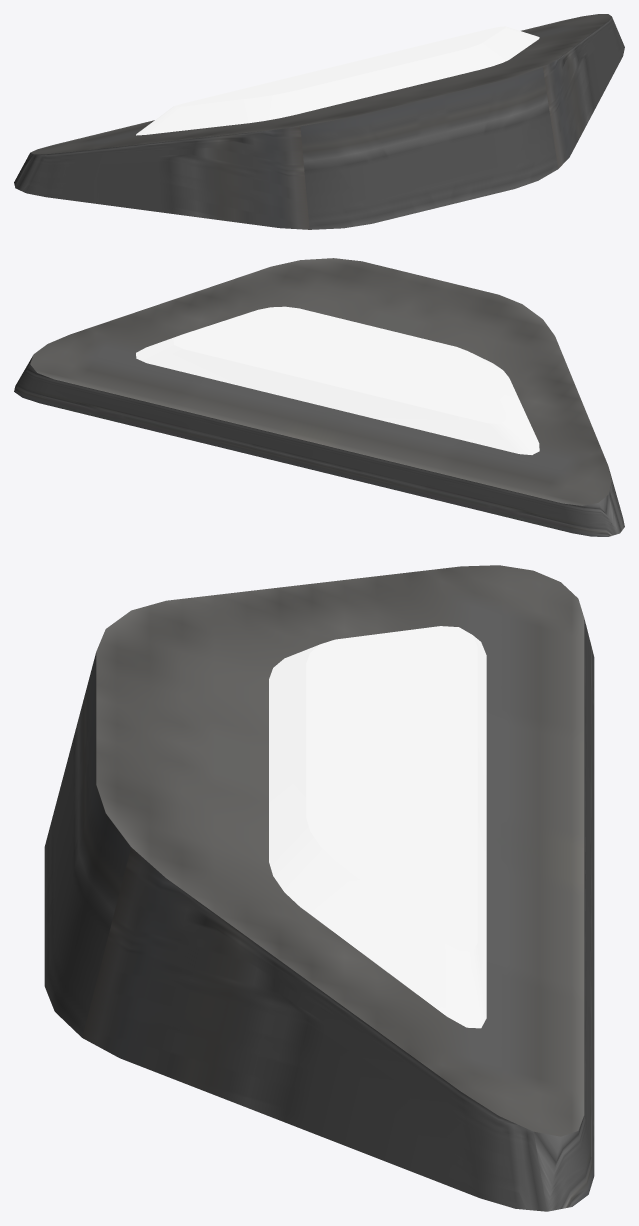
File: sf_floor_light.glb
3 renders of one model, top to bottom at view 1: azimuth 30°, elevation 25°; view 2: azimuth 150°, elevation 25°; view 3: azimuth 270°, elevation 25°, orthographic. The views are drawn at different scales.
Visible parts, largest first — view 1: Prop_Light_Floor; view 2: Prop_Light_Floor; view 3: Prop_Light_Floor.
Part boxes in pixels (left/top/right/bottom): Prop_Light_Floor: left=14, top=14, right=624, bottom=229; Prop_Light_Floor: left=14, top=258, right=624, bottom=536; Prop_Light_Floor: left=44, top=565, right=594, bottom=1211.
Bounding box in the file's own units: 1.33 × 0.209 × 0.5246.
2 materials, 1 textured.
